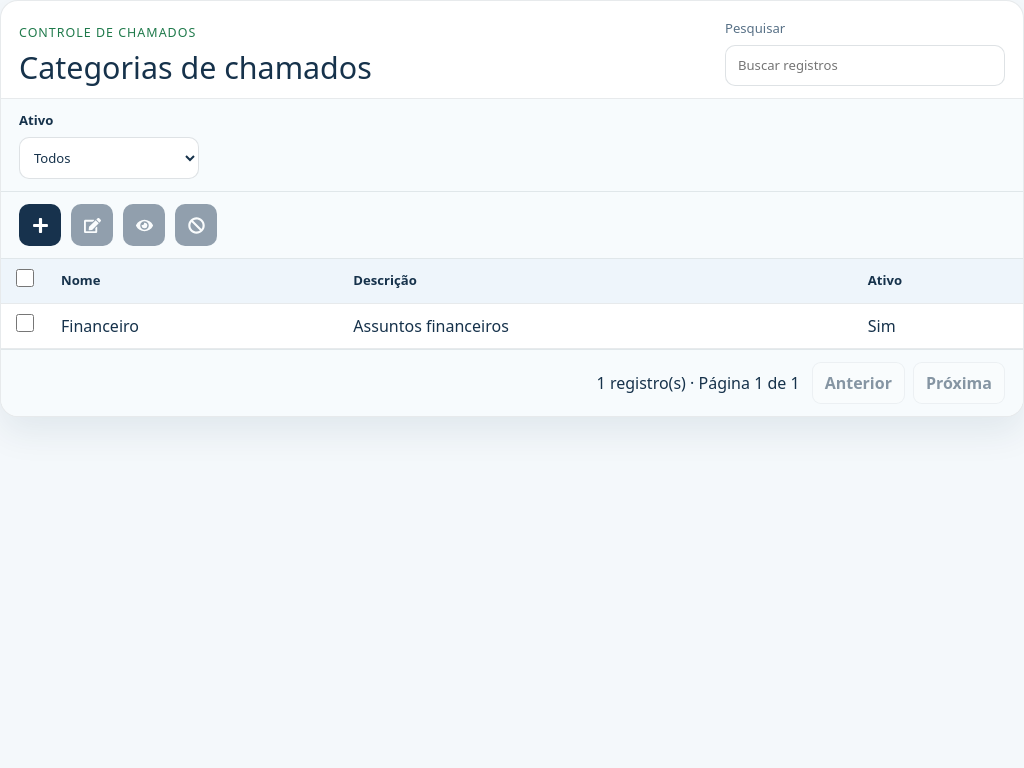
Test: Configurações do Controle de Chamados › mantém o erro de validação da categoria associado ao campo
Check: the cell "Financeiro" is shown, box [49,303,341,348]
Step 1. Click the button named "Incluir" → (40, 225), box [19,204,61,246]
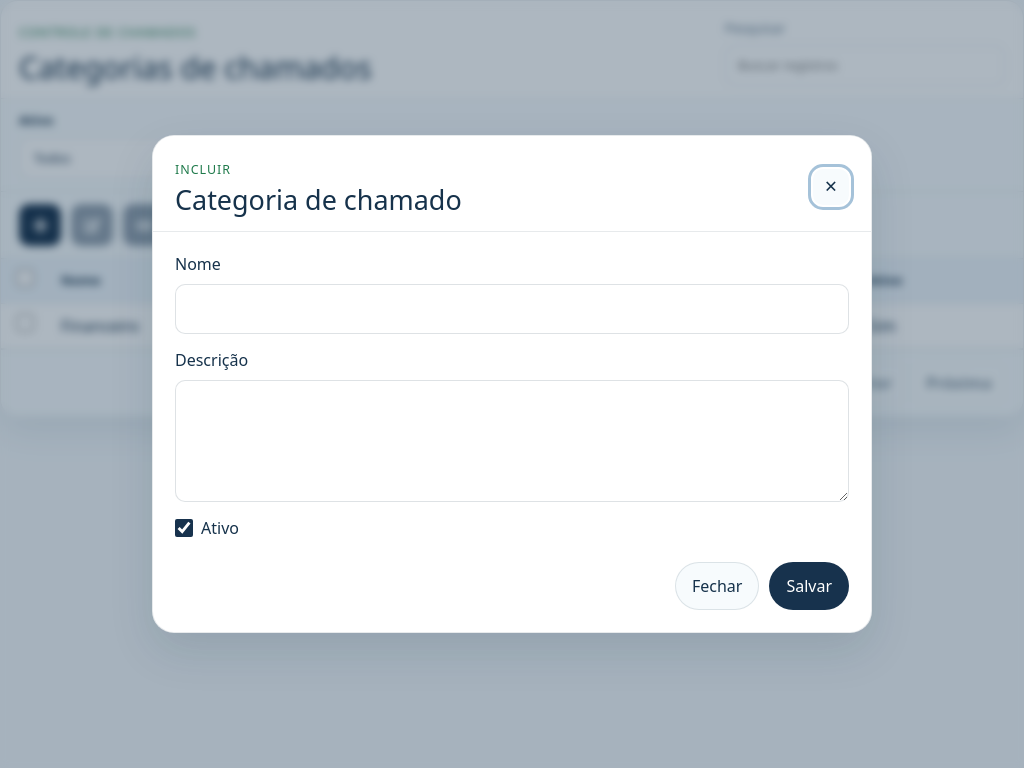
Step 2. Type "Financeiro" into the field labelled "Nome" → (512, 309), box [175,284,849,334]
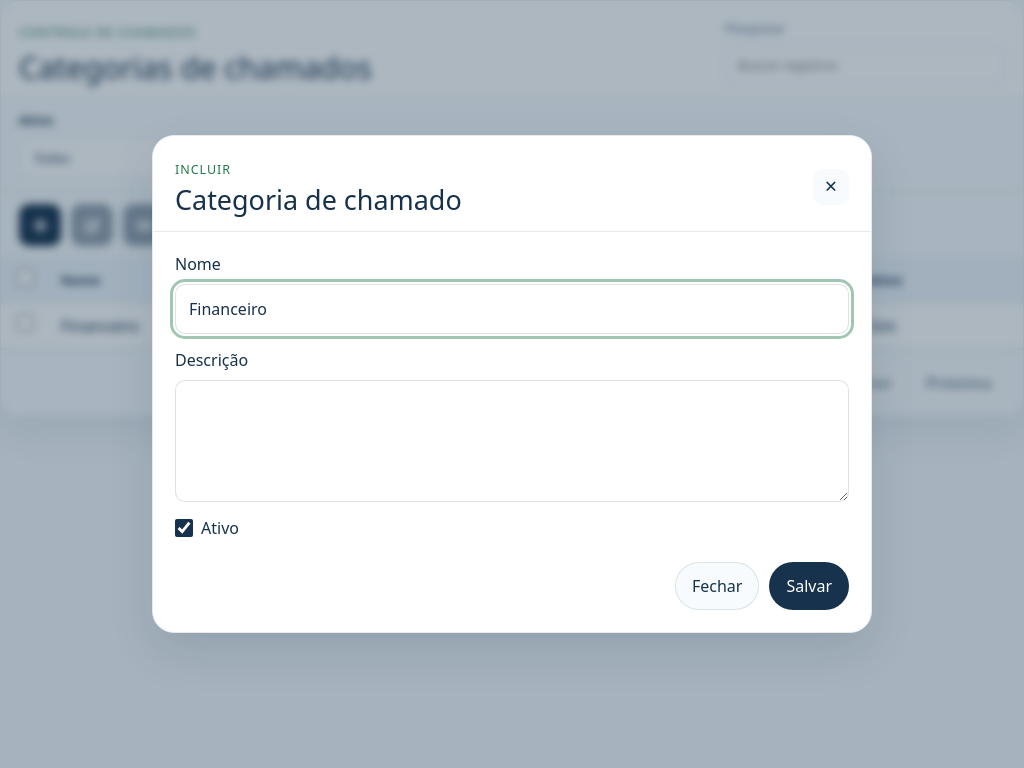
Step 3. Click the button "Salvar" → (809, 586), box [769,562,849,610]
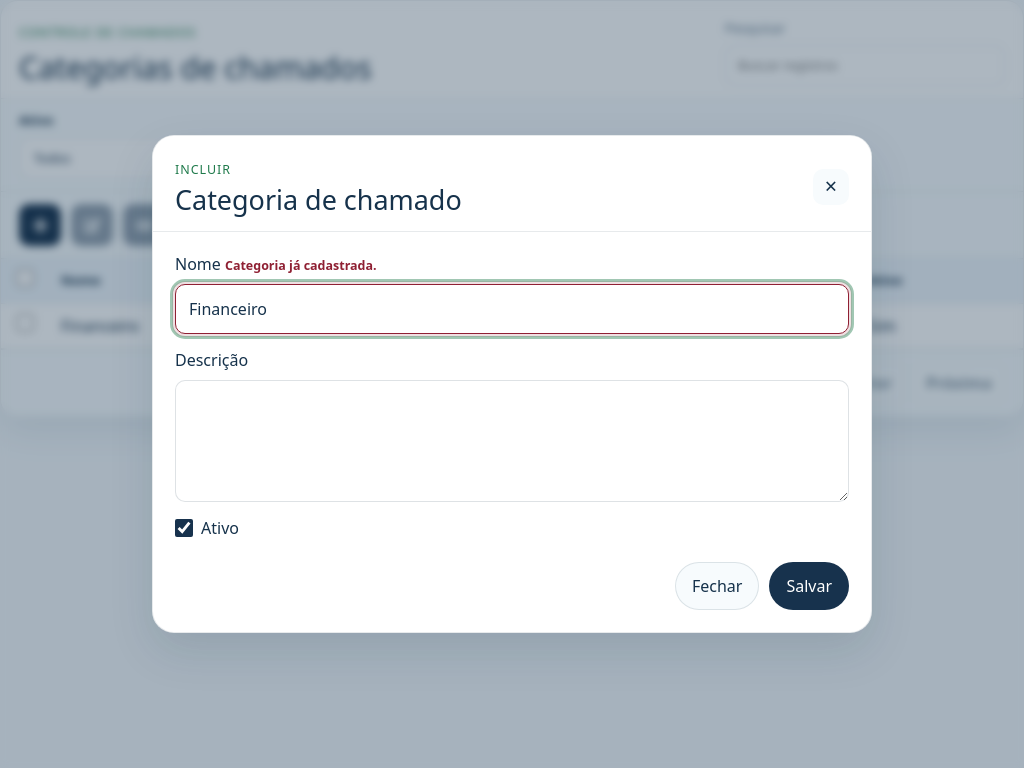
Check: the message reads "Categoria já cadastrada.", box [225,257,377,274]
